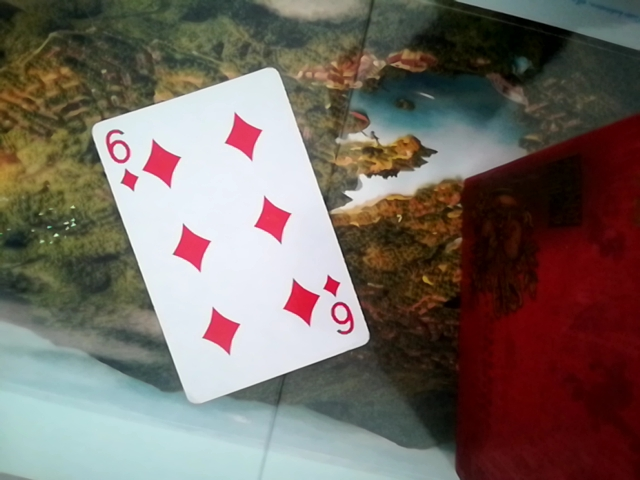fk 6: (87, 58, 364, 408)
